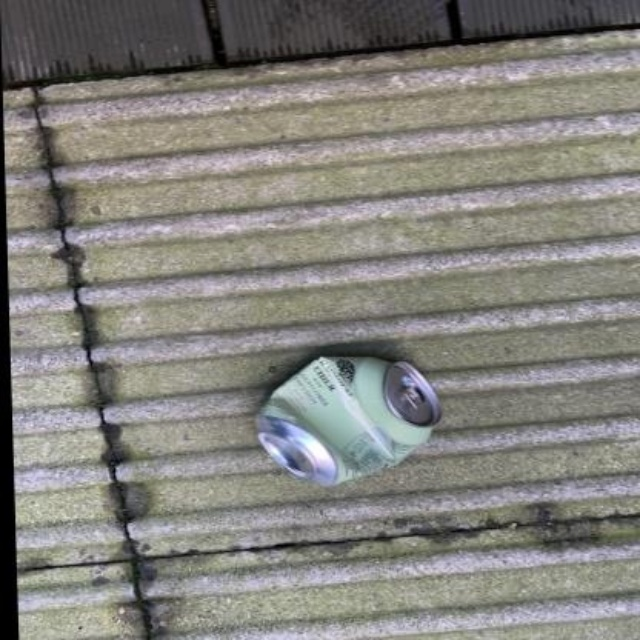trash: (257, 357, 440, 485)
